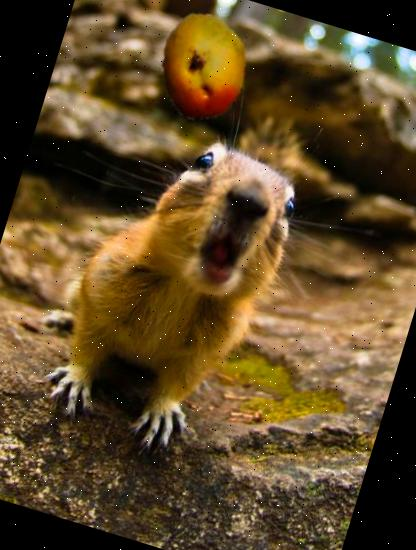Papaya: (136, 0, 270, 134)
